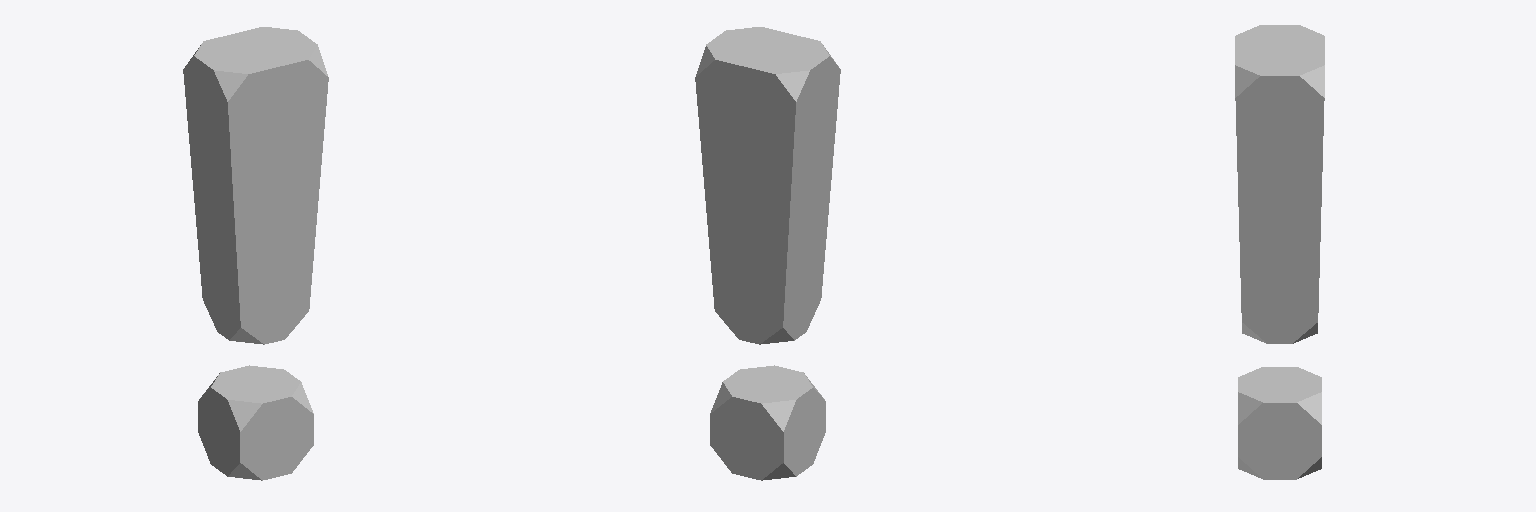
Rendered from exclamation-mark.obj.
The picture shows the model from 3 angles: view 1: azimuth 30°, elevation 25°; view 2: azimuth 150°, elevation 25°; view 3: azimuth 270°, elevation 25°; orthographic projection.
Visible parts, largest first — view 1: Cube; view 2: Cube; view 3: Cube.
Part boxes in pixels (left/top/right/bottom): Cube: left=183, top=27, right=328, bottom=480; Cube: left=695, top=27, right=840, bottom=480; Cube: left=1235, top=25, right=1324, bottom=479.
Size of the model in its own units: 3.2 by 12.06 by 2.4.